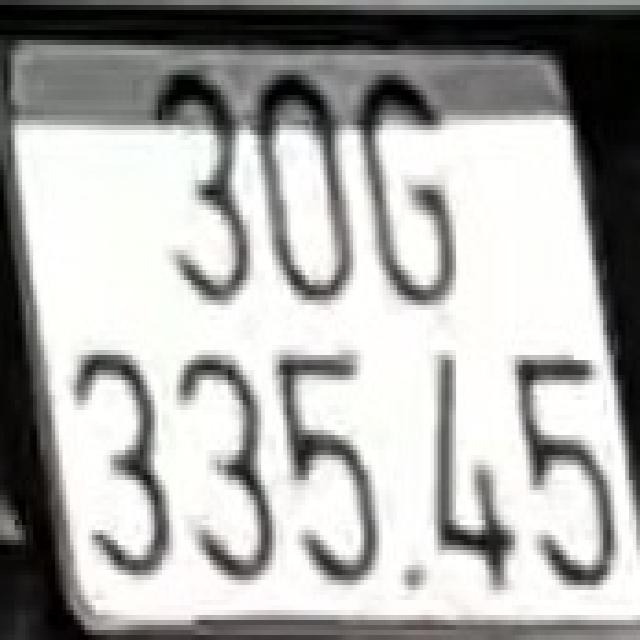0: (256, 68, 355, 302)
3: (149, 65, 256, 305), (68, 345, 175, 580), (175, 348, 274, 582)
4: (421, 345, 517, 590)
5: (278, 345, 384, 585), (517, 345, 620, 590)
G: (361, 68, 467, 302)
